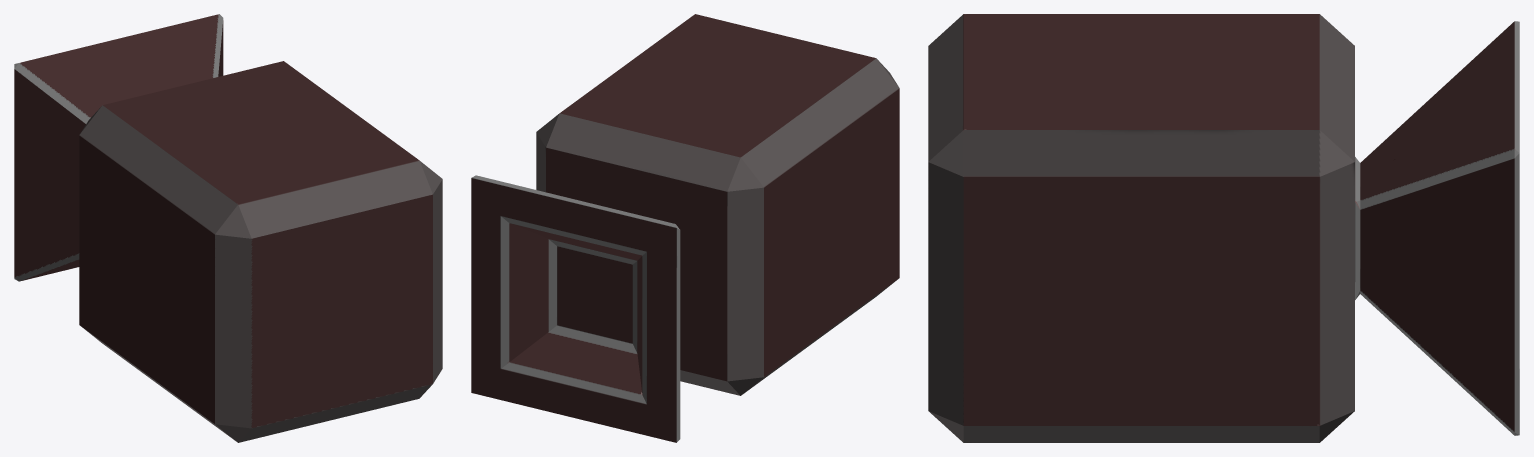
The model's file is CameraModel.fbx.
The picture shows the model from 3 angles, left to right: view 1: azimuth 30°, elevation 25°; view 2: azimuth 150°, elevation 25°; view 3: azimuth 270°, elevation 25°; orthographic projection. The views are drawn at different scales.
Visible parts, largest first — view 1: Cube; view 2: Cube; view 3: Cube.
Part boxes in pixels (bbox=[...]): Cube: bbox=[14, 14, 442, 442]; Cube: bbox=[471, 14, 899, 442]; Cube: bbox=[928, 14, 1519, 442].
Size of the model in its own units: 57.3 by 57.3 by 98.16.
Materials: 1 (1 with a texture image).
